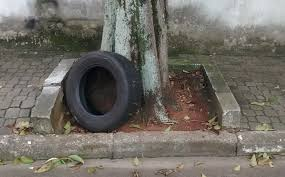tire: (64, 50, 140, 135)
